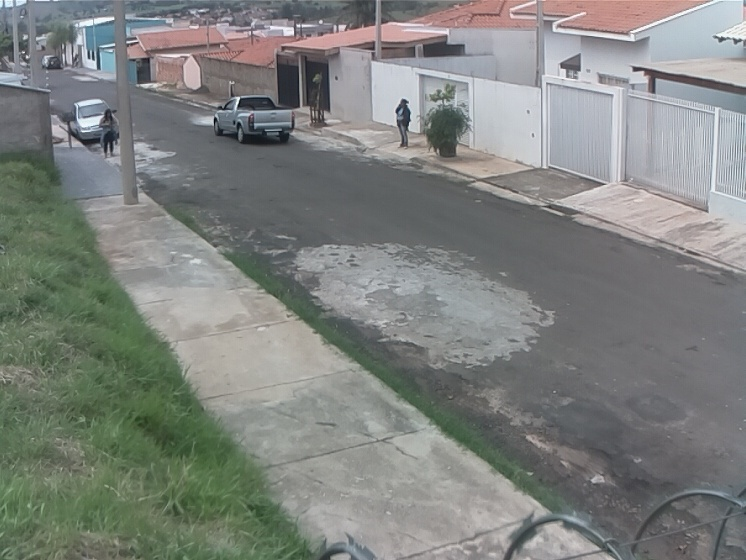person: (98, 108, 120, 160), (395, 98, 413, 150)
